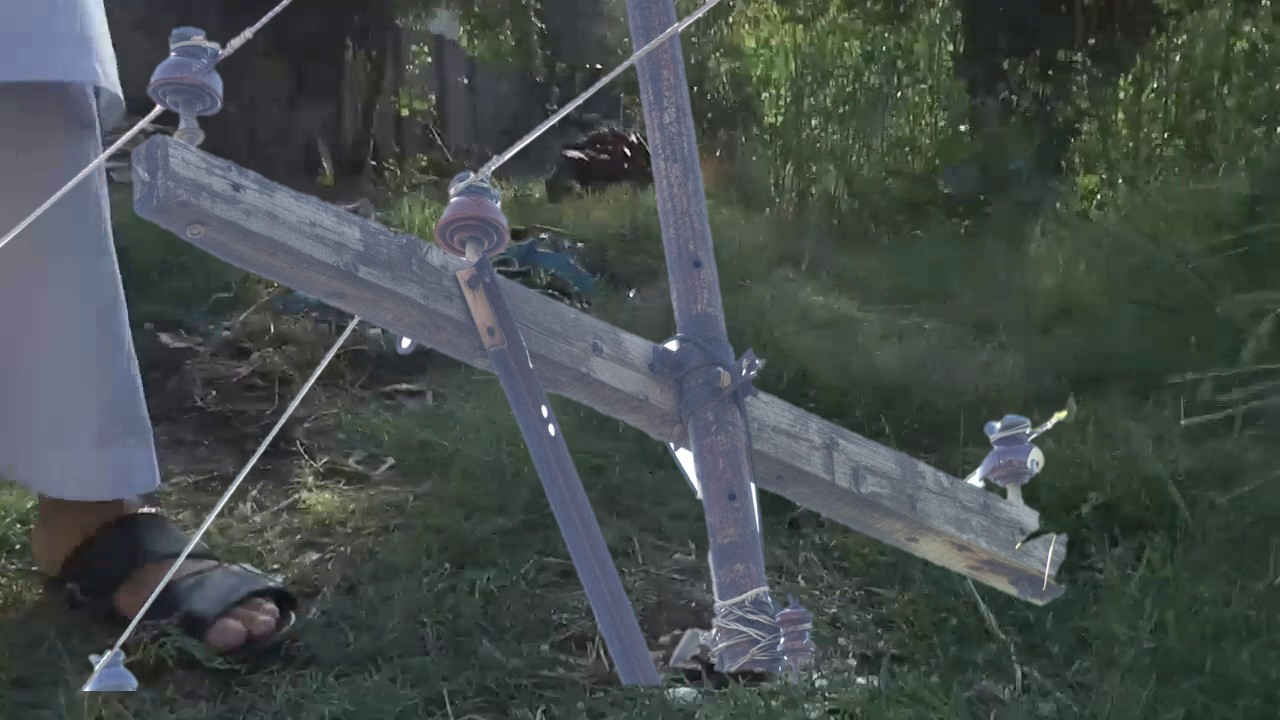defect_pin: (967, 409, 1056, 495)
insulator_pin: (145, 24, 227, 125), (433, 167, 515, 261)
